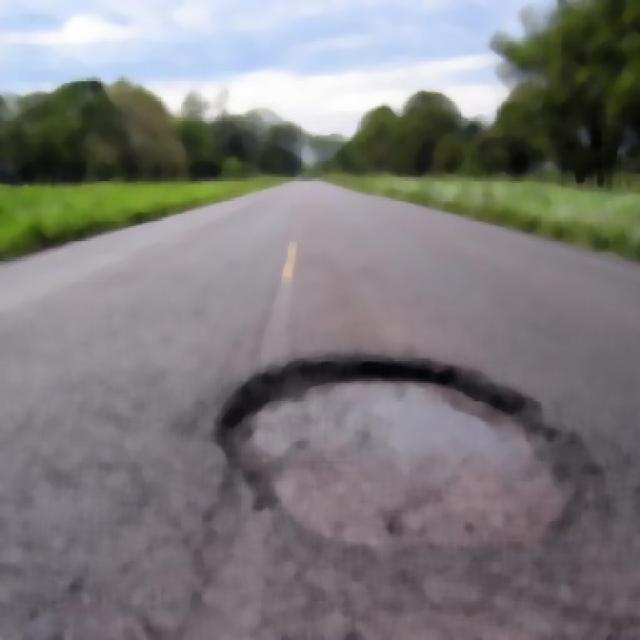Pothole: (232, 379, 580, 543)
